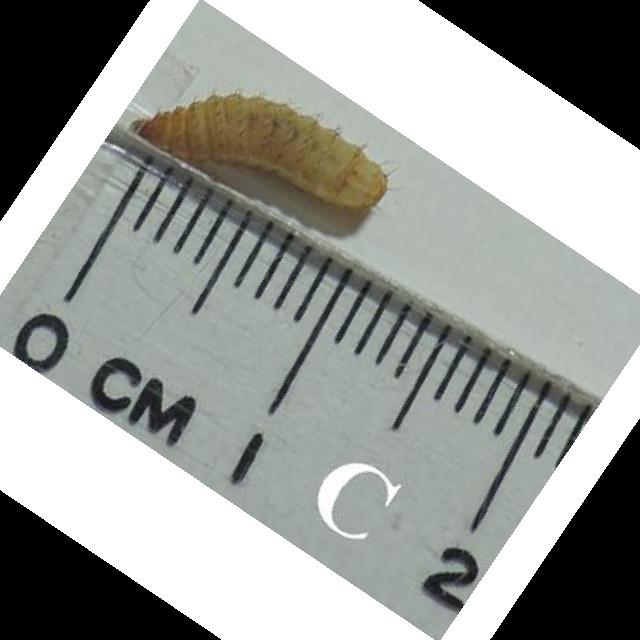Maggot: (131, 89, 402, 217)
